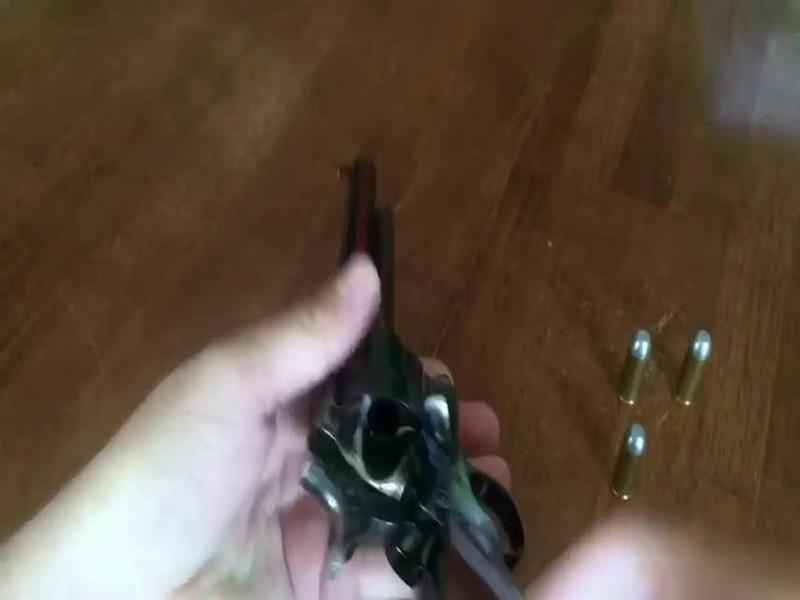Revolver: (309, 146, 517, 600)
